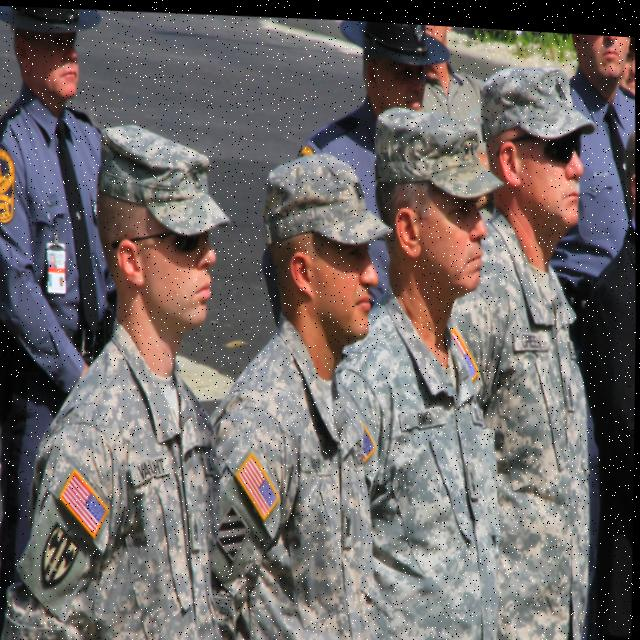illegal_helmet: (92, 109, 236, 339), (255, 136, 402, 347), (367, 88, 510, 301), (476, 46, 601, 233)
